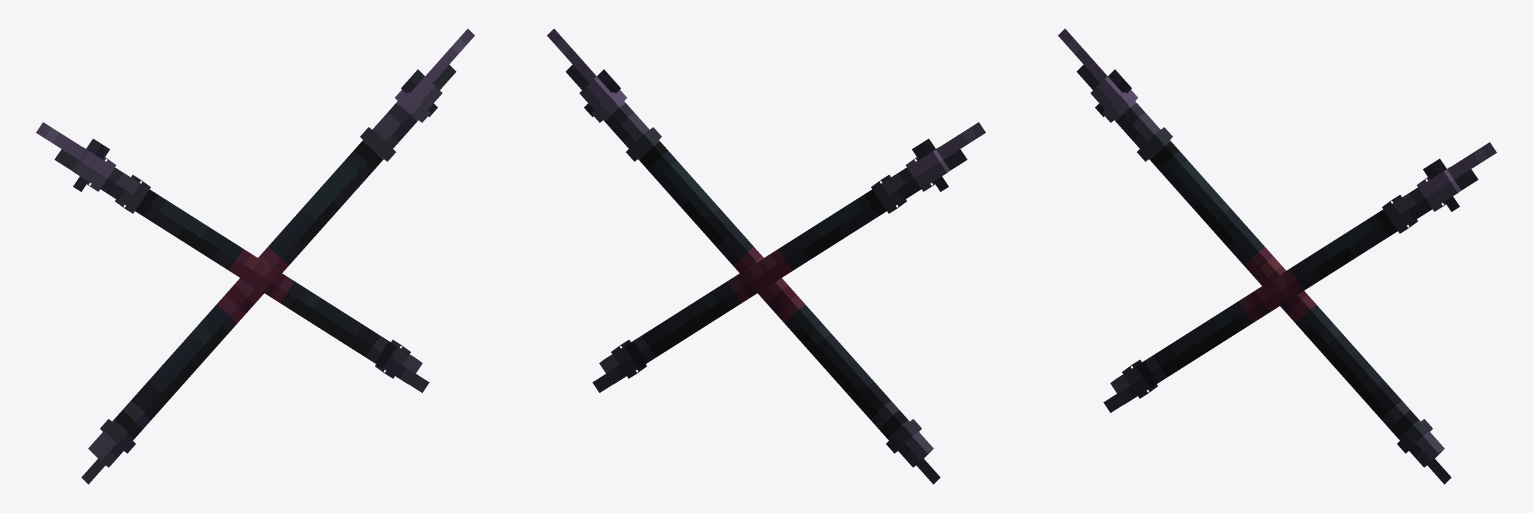
The model's file is sl_doru_spear.glb.
3 renders of one model, left to right at view 1: azimuth 30°, elevation 25°; view 2: azimuth 150°, elevation 25°; view 3: azimuth 330°, elevation 25°, orthographic.
Parts seen in each view (by area): view 1: bb_doru_spear; view 2: bb_doru_spear; view 3: bb_doru_spear.
Boxes of the visible parts, x1,y1,x2,y2 form: bb_doru_spear: (36,28,474,484); bb_doru_spear: (547,28,985,484); bb_doru_spear: (1058,28,1496,484).
Size of the model in its own units: 2.7 by 2.19 by 0.0938.
1 material, 1 textured.
